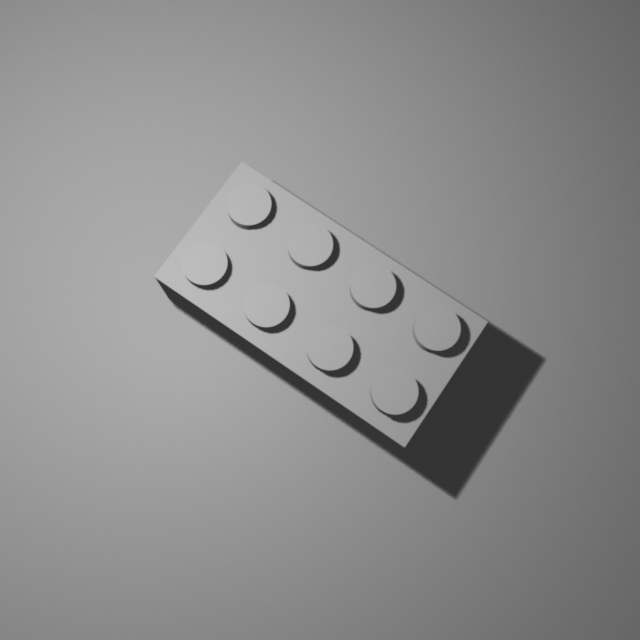lego_2x4: (151, 156, 491, 455)
